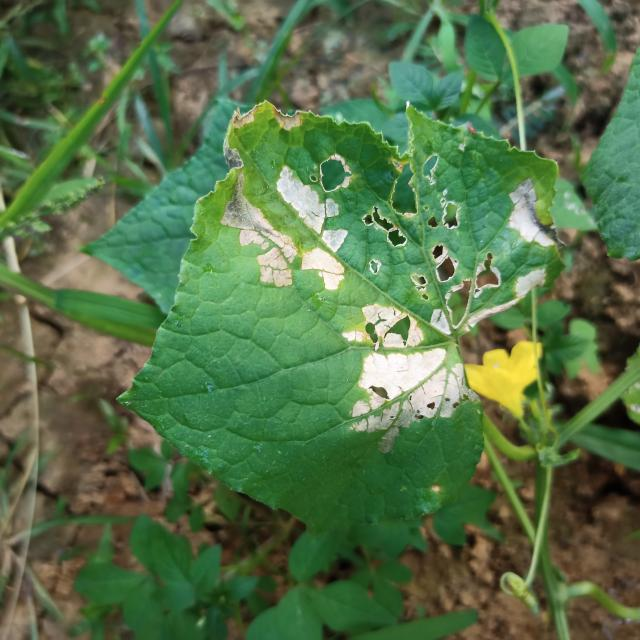disease_cucumber: (213, 104, 564, 352), (335, 294, 471, 446)
